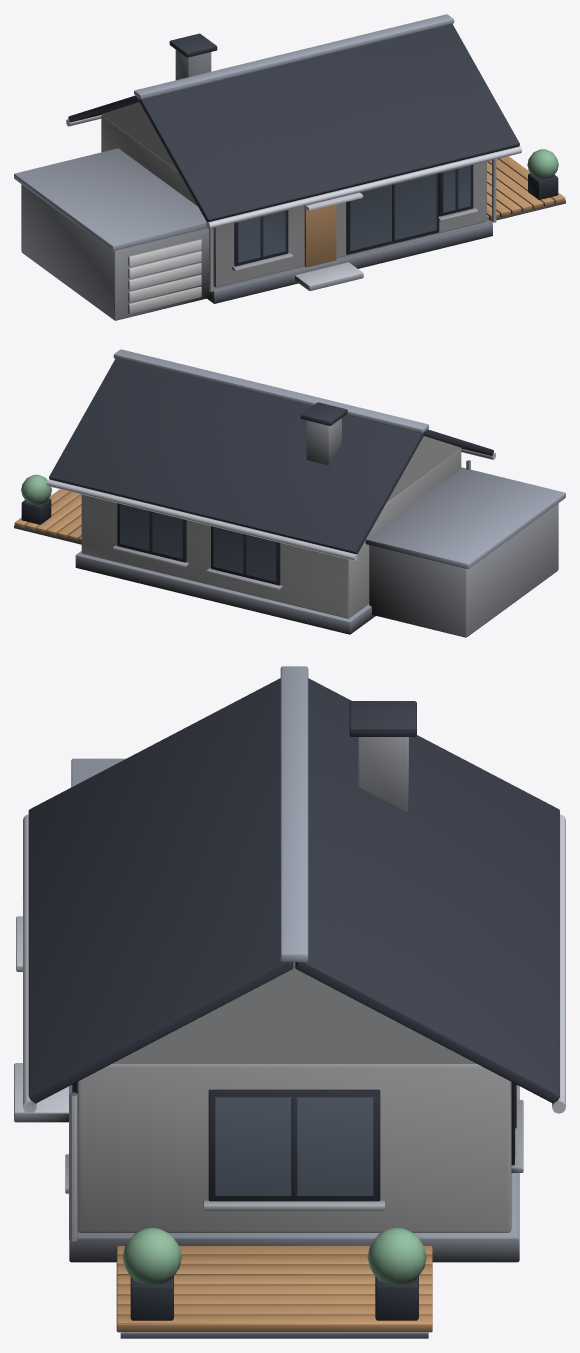
Rendered from house.envelope.glb.
The picture shows the model from 3 angles, top to bottom: view 1: azimuth 30°, elevation 25°; view 2: azimuth 150°, elevation 25°; view 3: azimuth 270°, elevation 25°; orthographic projection. The views are drawn at different scales.
Visible parts, largest first — view 1: house.graphite, house.mid, house.light, house.white, house.glass, house.warm, house.foliage; view 2: house.graphite, house.mid, house.light, house.white, house.glass, house.warm, house.foliage; view 3: house.graphite, house.white, house.warm, house.mid, house.glass, house.light, house.foliage.
Boxes of the visible parts, x1=… form: house.graphite: x1=68, y1=23, x2=558, y2=266; house.mid: x1=14, y1=14, x2=565, y2=303; house.light: x1=21, y1=50, x2=521, y2=320; house.white: x1=101, y1=102, x2=486, y2=314; house.glass: x1=238, y1=166, x2=470, y2=262; house.warm: x1=304, y1=156, x2=565, y2=267; house.foliage: x1=527, y1=149, x2=558, y2=179; house.graphite: x1=21, y1=358, x2=493, y2=585; house.mid: x1=14, y1=349, x2=565, y2=634; house.light: x1=47, y1=418, x2=558, y2=637; house.white: x1=81, y1=436, x2=461, y2=618; house.glass: x1=120, y1=504, x2=276, y2=581; house.warm: x1=14, y1=489, x2=81, y2=542; house.foliage: x1=21, y1=474, x2=51, y2=504; house.graphite: x1=28, y1=678, x2=559, y2=1320; house.white: x1=77, y1=962, x2=511, y2=1232; house.warm: x1=116, y1=1246, x2=432, y2=1332; house.mid: x1=69, y1=666, x2=519, y2=1338; house.glass: x1=215, y1=1084, x2=515, y2=1195; house.light: x1=14, y1=737, x2=565, y2=1241; house.foliage: x1=122, y1=1227, x2=426, y2=1285.
Size of the model in its own units: 5.14 by 1.95 by 2.8.
